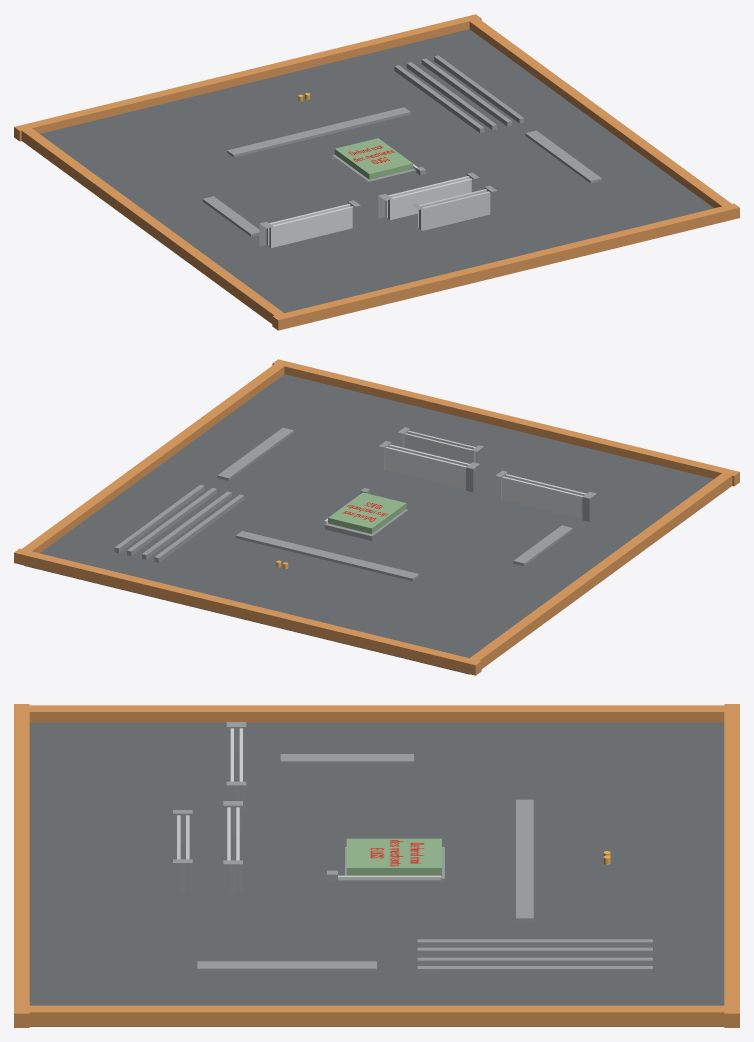
File: Motherboard.glb
3 renders of one model, top to bottom at view 1: azimuth 30°, elevation 25°; view 2: azimuth 150°, elevation 25°; view 3: azimuth 270°, elevation 25°, orthographic. The views are drawn at different scales.
Parts seen in each view (by area): view 1: Cube.004; view 2: Cube.004; view 3: Cube.004.
Boxes of the visible parts, box(x1,y1,x2,y2) form: Cube.004: box(14, 14, 739, 330); Cube.004: box(14, 359, 739, 675); Cube.004: box(14, 704, 739, 1027).
Size of the model in its own units: 171 by 11.65 by 169.
Materials: 13 (3 with a texture image).
